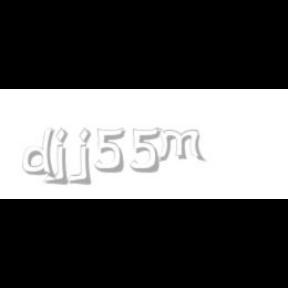5: (94, 128, 125, 174), (130, 128, 160, 174)
d: (22, 128, 60, 180)
j: (76, 128, 106, 186), (54, 128, 82, 186)
m: (155, 128, 207, 162)
